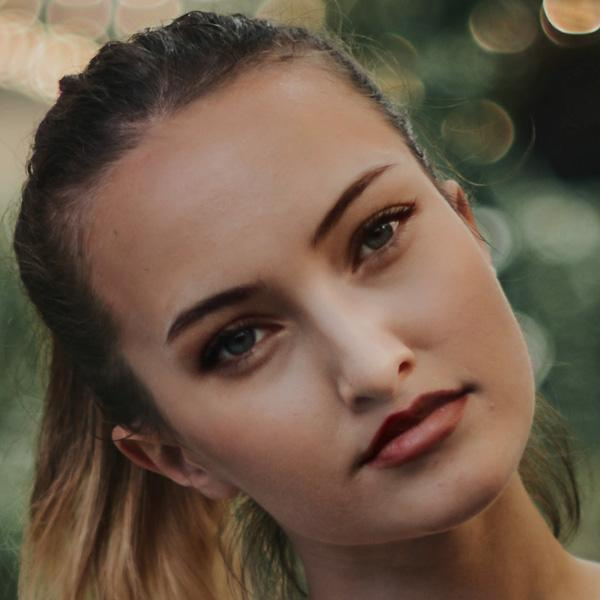Eyes: (188, 291, 294, 389), (340, 181, 422, 287)
